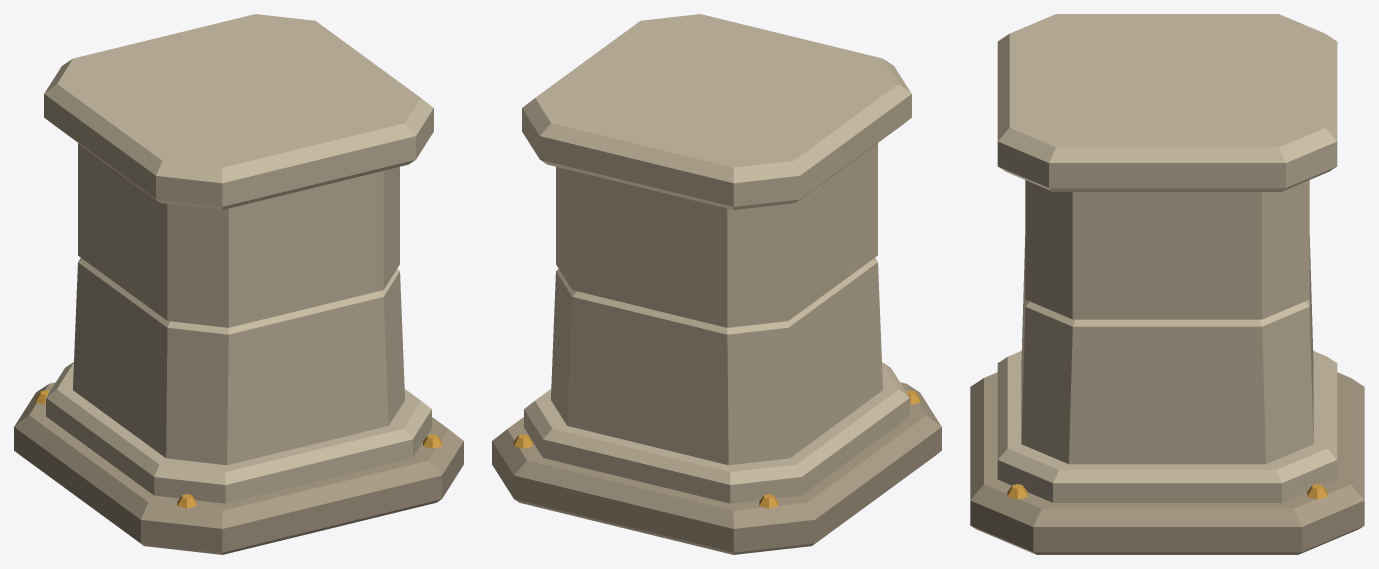
The model's file is GunBase.obj.
3 renders of one model, left to right at view 1: azimuth 30°, elevation 25°; view 2: azimuth 150°, elevation 25°; view 3: azimuth 270°, elevation 25°, orthographic. The views are drawn at different scales.
Visible parts, largest first — view 1: GunBase; view 2: GunBase; view 3: GunBase.
Boxes of the visible parts, <box> form: GunBase: <box>14,14,463,554</box>; GunBase: <box>492,14,941,554</box>; GunBase: <box>970,14,1364,554</box>.
Bounding box in the file's own units: 1 × 1.1 × 1.
